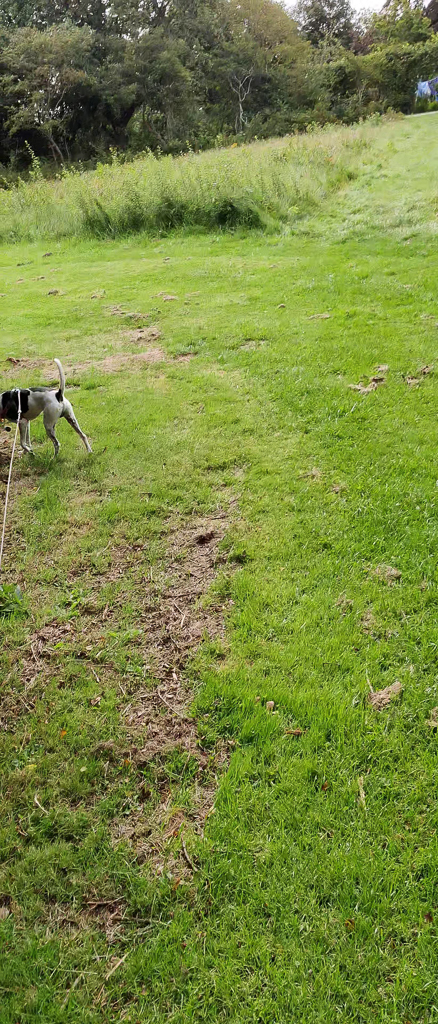Dog: (0, 353, 94, 468)
